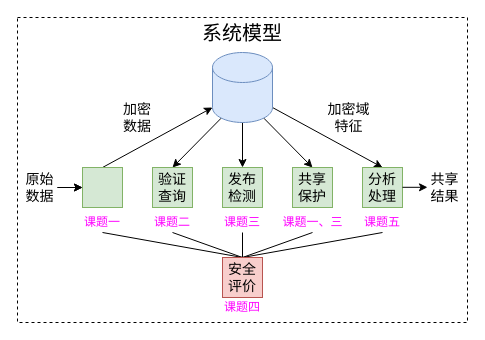
This 485x340 diagram has some shape labels left out. Here are the shapes that lost their labels. From the top down, the box of each, then its label:
(212, 52, 272, 122): 云存储
(82, 166, 122, 208): 轻量 加密
